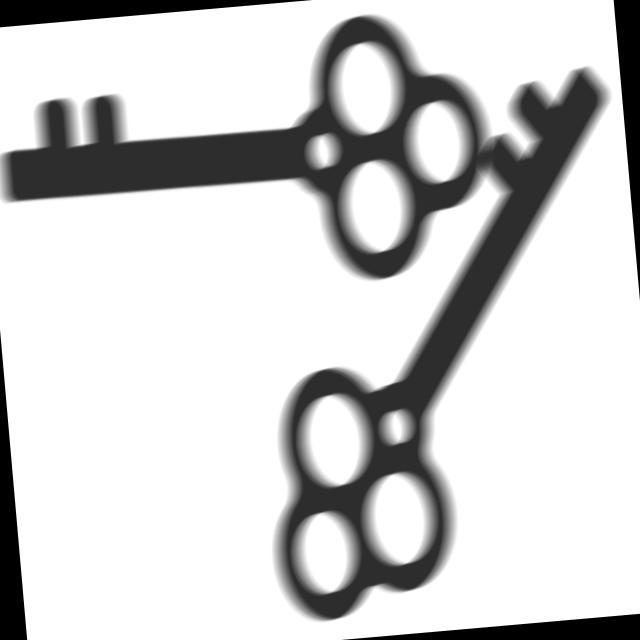key: (224, 60, 640, 632), (1, 1, 510, 327)
